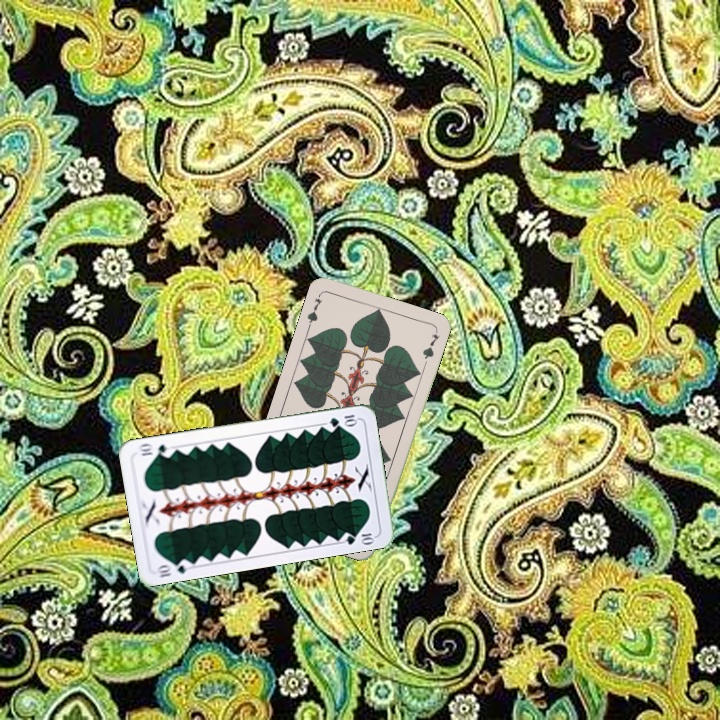G10: (152, 556, 193, 580), (326, 410, 360, 429)
G7: (303, 290, 325, 329)
